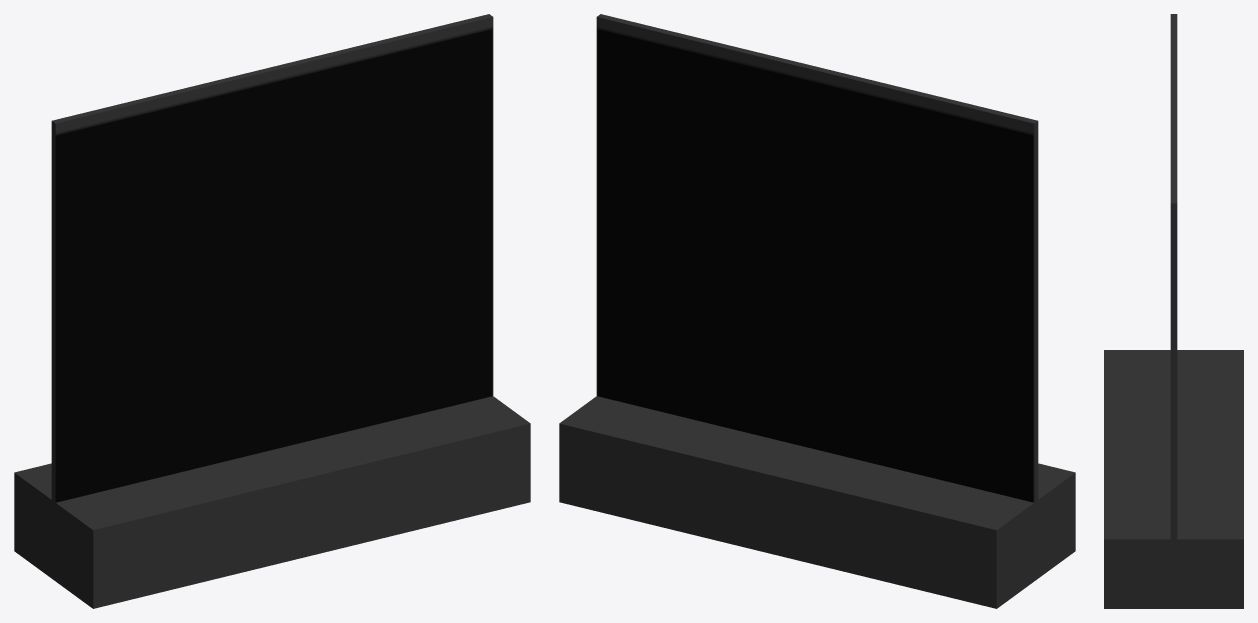
The model's file is nyc_subway_entrance_2_fence_1.obj.
3 renders of one model, left to right at view 1: azimuth 30°, elevation 25°; view 2: azimuth 150°, elevation 25°; view 3: azimuth 270°, elevation 25°, orthographic. The views are drawn at different scales.
Visible parts, largest first — view 1: cube; view 2: cube; view 3: cube.
Part boxes in pixels (x1,y1,x2,y2): cube: (14,14,530,608); cube: (559,14,1075,608); cube: (1104,14,1243,608).
Bounding box in the file's own units: 1 × 1 × 0.3125.
2 materials, 2 textured.
